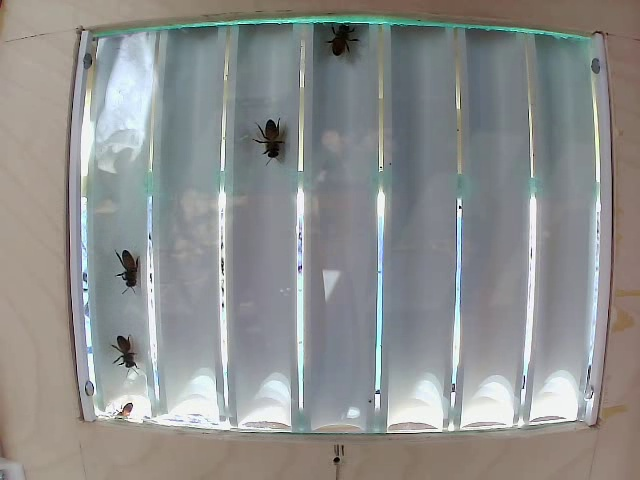bee: (249, 108, 298, 167), (331, 17, 369, 69), (109, 249, 157, 290), (111, 333, 142, 371)
